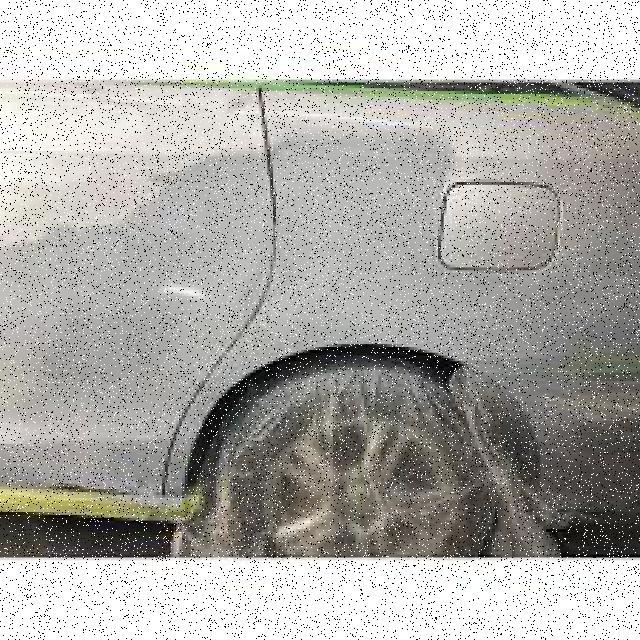quaterpanel-dent: (253, 82, 637, 514)
